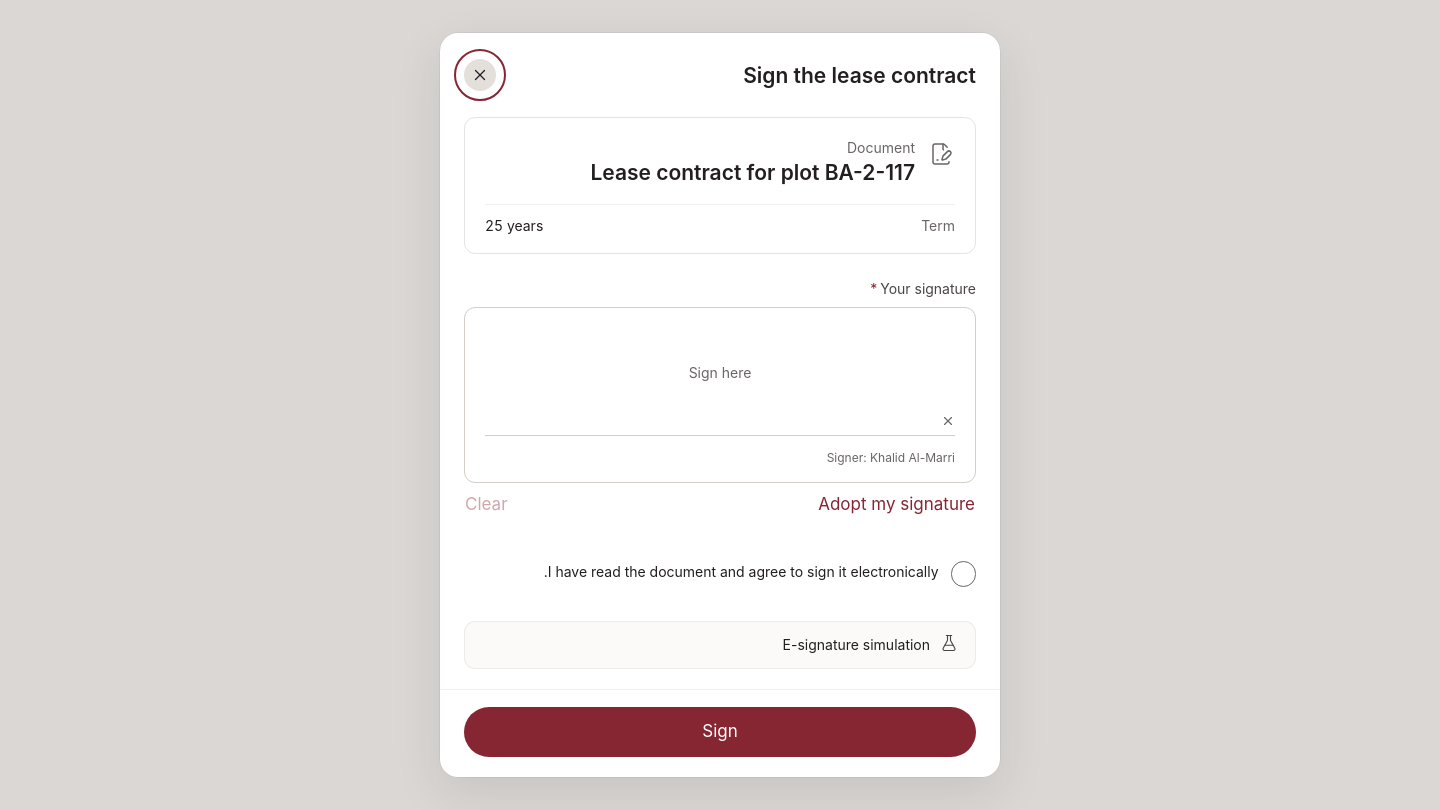
Test: transaction sheets › asks for a signature and consent before it signs
Later steps or results of the test are not shown.
Click the button "Sign" at (720, 732), box [464,707,976,757]
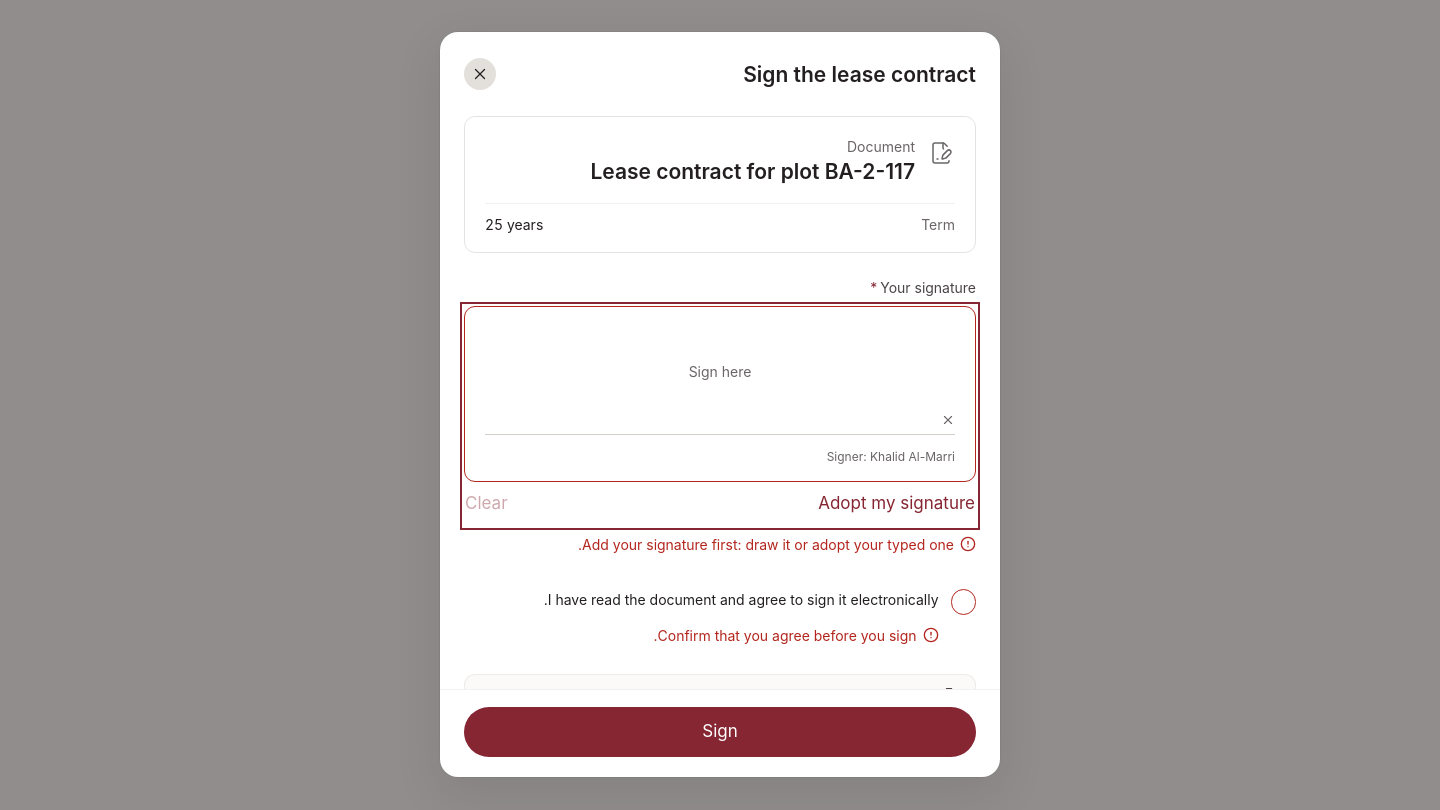
Expected: the text "Add your signature first" is shown, [578,537,954,554]
Expected: the text "Confirm that you agree before you sign." is shown, [654,625,916,646]
Click the button "Adopt my signature" at (897, 505), box [817,483,976,527]
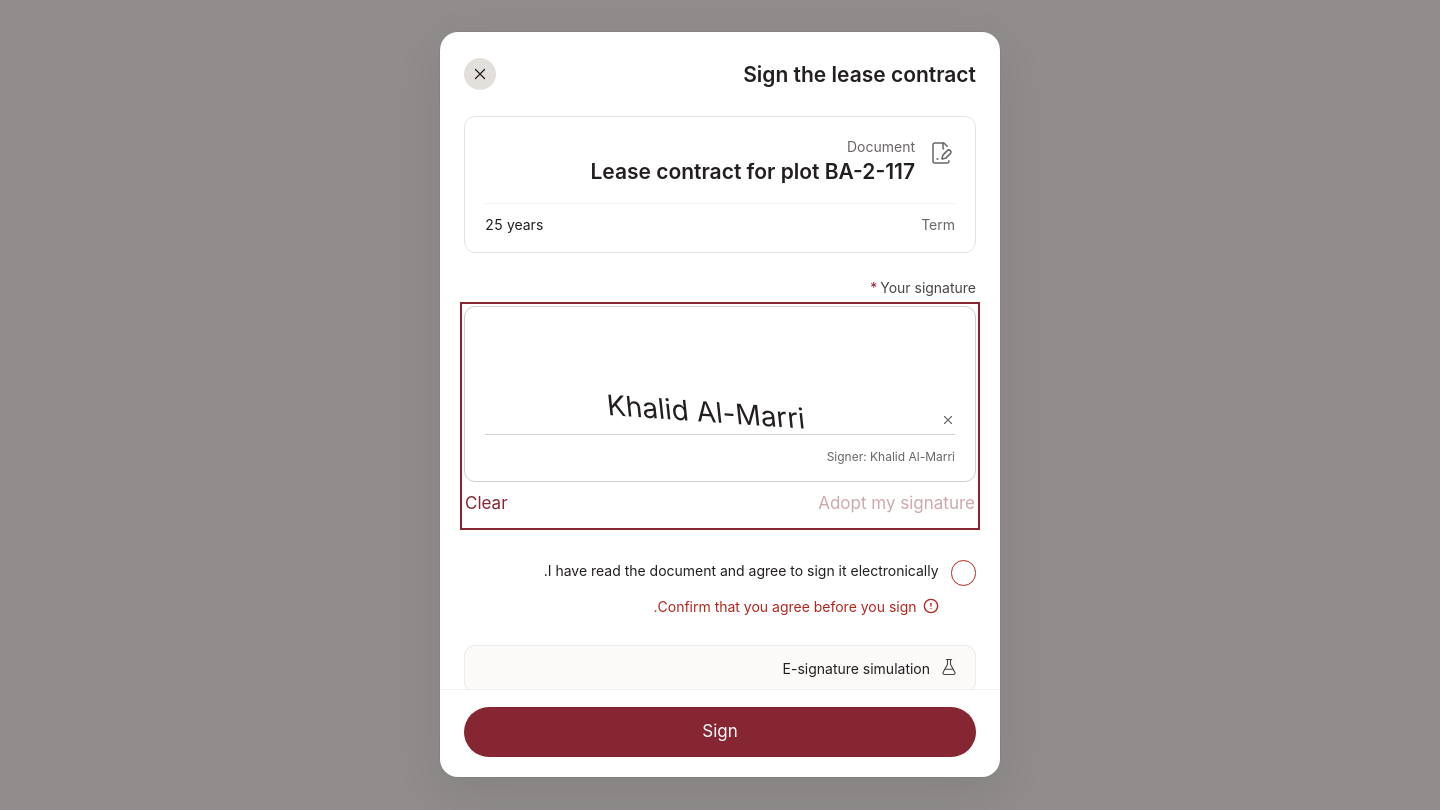
Click the checkbox at (760, 574), box [544,561,976,586]
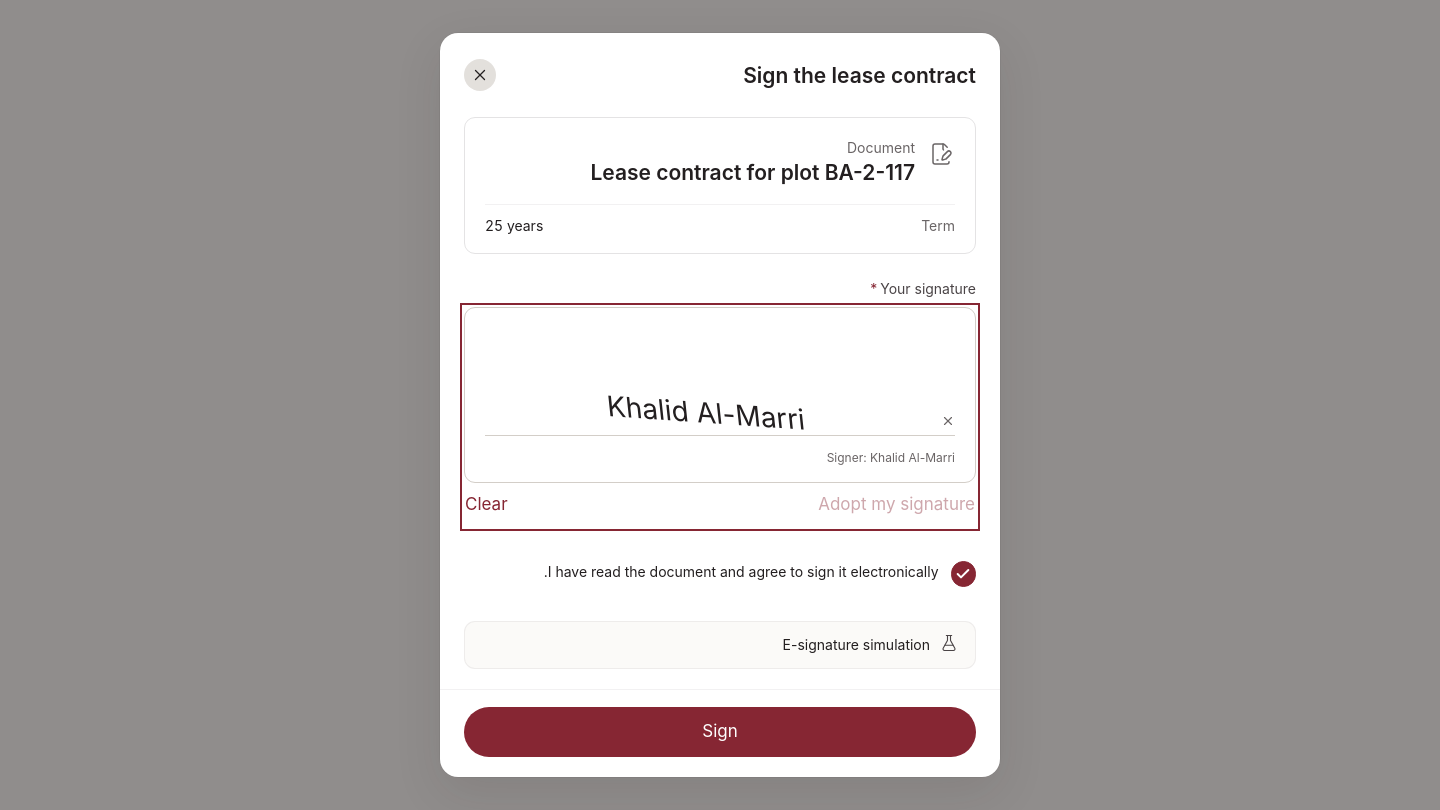
Expected: the text "Add your signature first" is not shown
Click the button "Sign" at (720, 732), box [464,707,976,757]
Wait 1150 ms
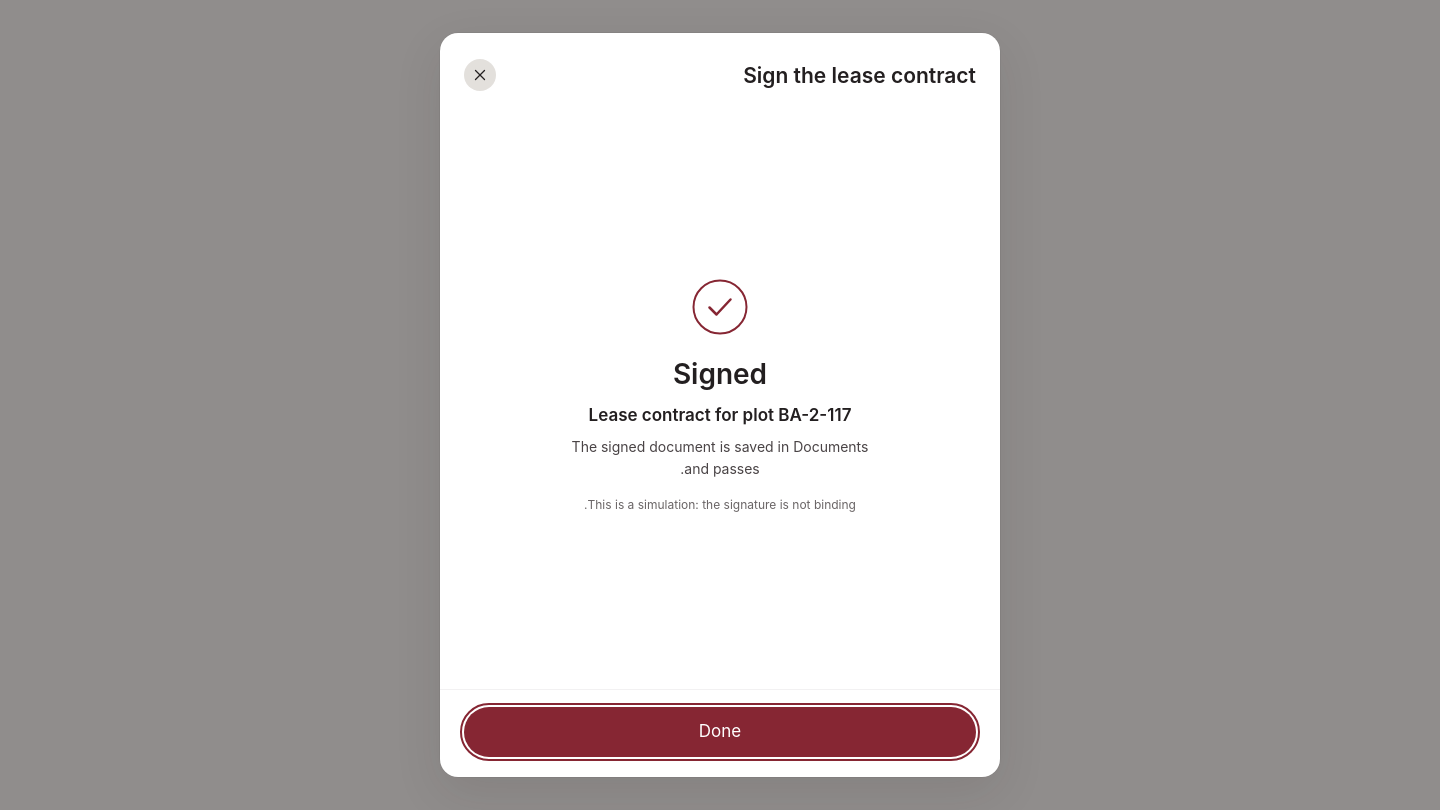
Expected: the text "Signed" is shown, [673,356,767,395]
Expected: the text "saved in Documents and passes" is shown, [572,438,868,477]
